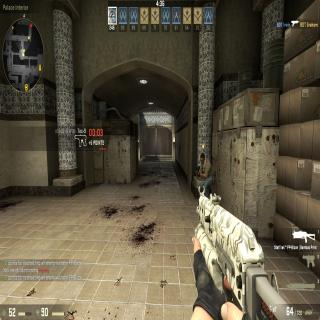T-Body: (197, 151, 216, 203)
T-Head: (200, 151, 205, 165)
